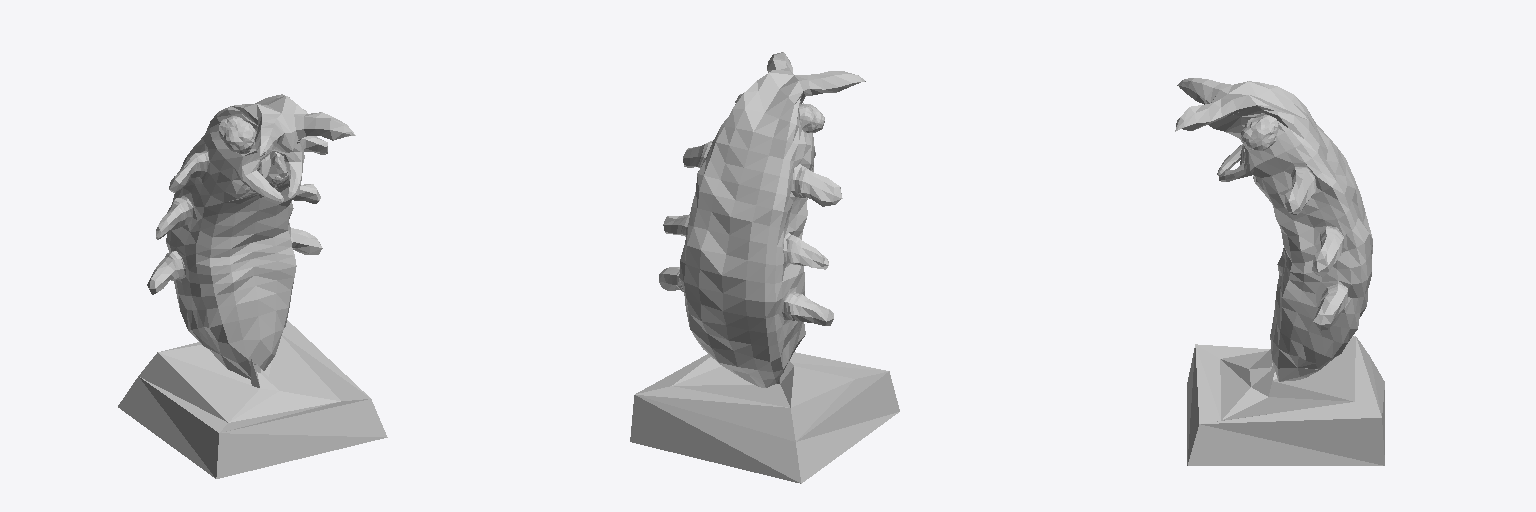
File: FervorIdol.obj
3 views of the same model, side by side, from view 1: azimuth 30°, elevation 25°; view 2: azimuth 150°, elevation 25°; view 3: azimuth 270°, elevation 25° (orthographic).
Visible parts, largest first — view 1: Body, Pedestal, Eyes; view 2: Body, Pedestal, Eyes; view 3: Body, Pedestal, Eyes.
Part boxes in pixels (x1,y1,x2,y2): Body: (147,94,355,379); Pedestal: (118,320,387,478); Eyes: (219,109,307,153); Body: (659,52,865,387); Pedestal: (630,352,899,483); Eyes: (735,94,824,132); Body: (1175,78,1372,381); Pedestal: (1187,336,1384,465); Eyes: (1241,115,1278,150).
Size of the model in its own units: 2.02 by 3.76 by 2.13.